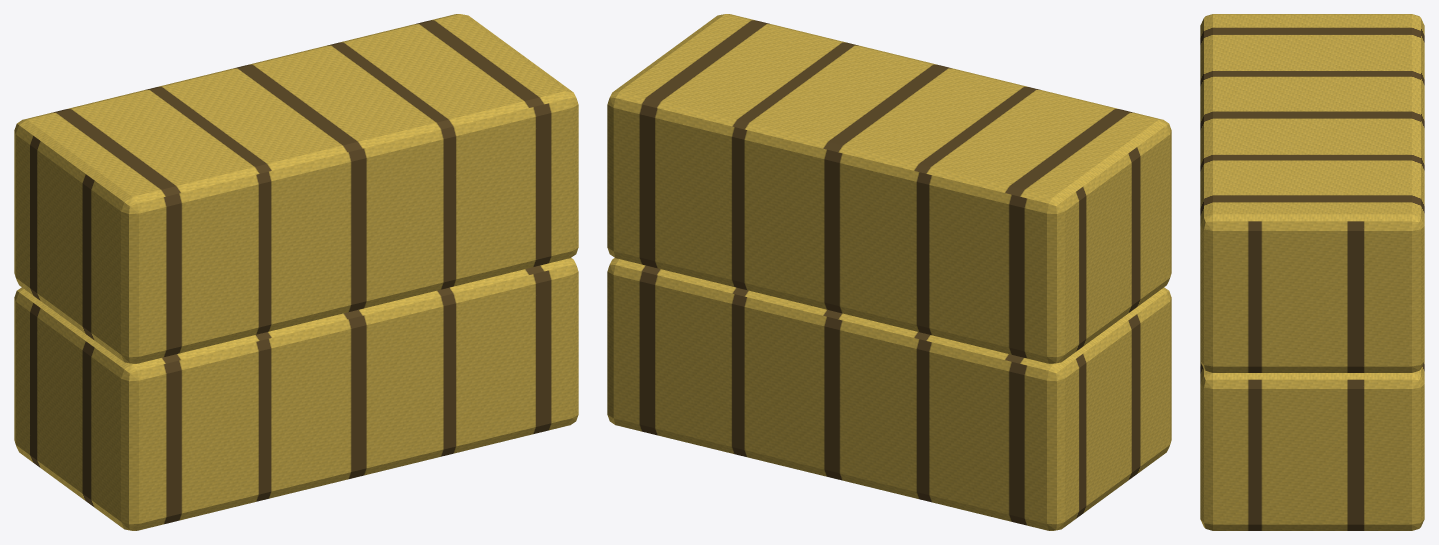
The model's file is haybale_stack_2.dae.
3 views of the same model, side by side, from view 1: azimuth 30°, elevation 25°; view 2: azimuth 150°, elevation 25°; view 3: azimuth 270°, elevation 25° (orthographic). The views are drawn at different scales.
Parts seen in each view (by area): view 1: Cube.001, Cube; view 2: Cube.001, Cube; view 3: Cube.001, Cube.
Part boxes in pixels (bbox=[...]): Cube.001: bbox=[14, 14, 578, 363]; Cube: bbox=[14, 258, 578, 530]; Cube.001: bbox=[607, 14, 1171, 363]; Cube: bbox=[607, 258, 1171, 530]; Cube.001: bbox=[1200, 14, 1424, 372]; Cube: bbox=[1200, 361, 1424, 530].
Bounding box in the file's own units: 1 × 0.45 × 0.7.
Materials: 1 (1 with a texture image).
